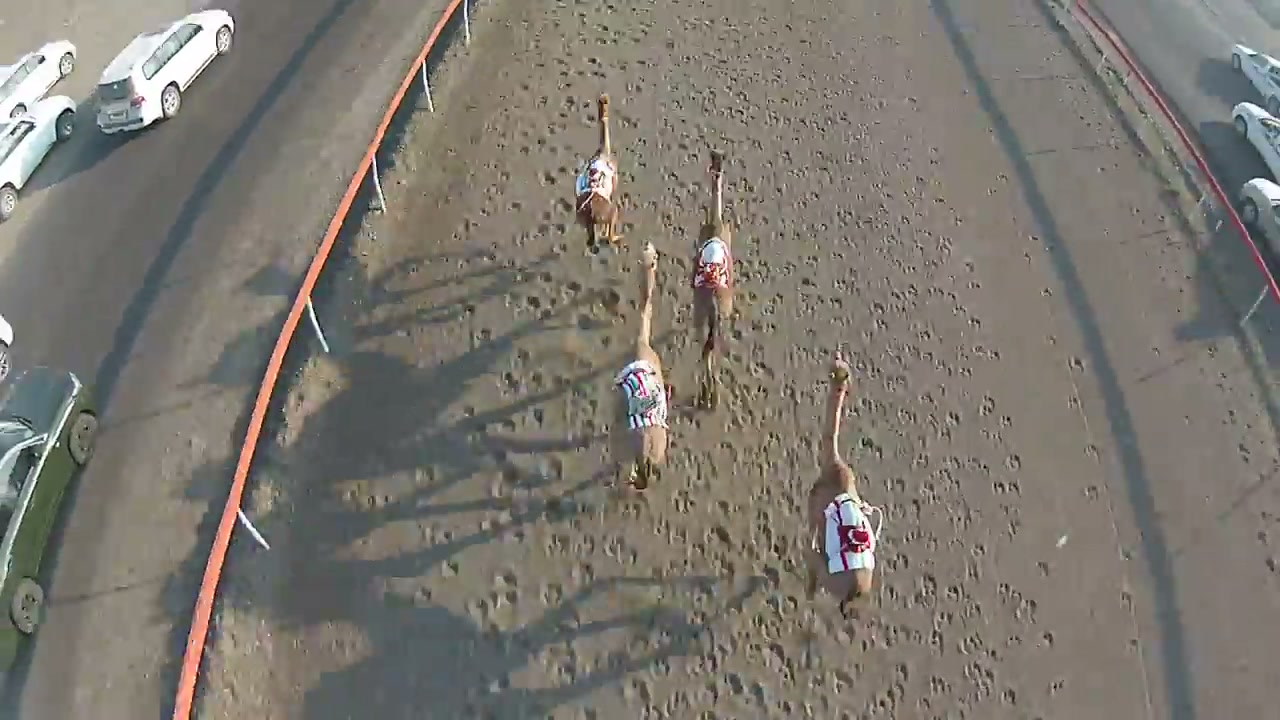animal_foot_print: (764, 90, 990, 717), (608, 40, 784, 719), (464, 72, 584, 691)
